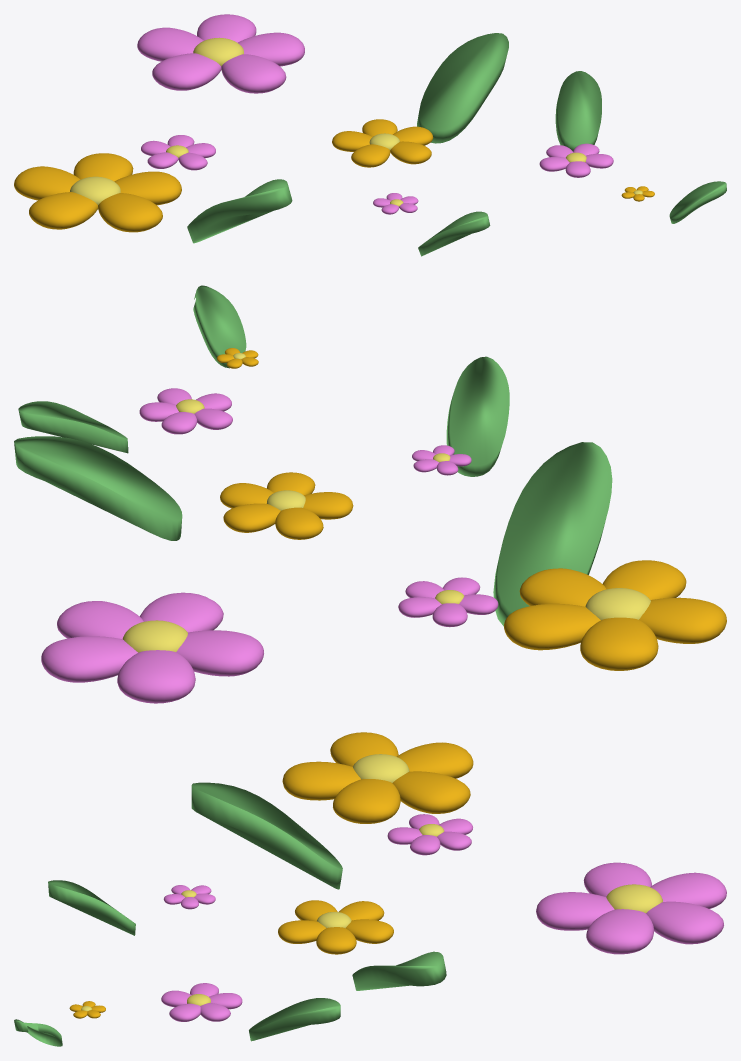
File: FLOWERS 1.fbx
The picture shows the model from 3 angles, top to bottom: view 1: azimuth 30°, elevation 25°; view 2: azimuth 150°, elevation 25°; view 3: azimuth 270°, elevation 25°; orthographic projection. The views are drawn at different scales.
Parts seen in each view (by area): view 1: Struikk.001; view 2: Struikk.001; view 3: Struikk.001.
Boxes of the visible parts, x1=… form: Struikk.001: x1=14, y1=14, x2=726, y2=256; Struikk.001: x1=14, y1=285, x2=726, y2=703; Struikk.001: x1=14, y1=732, x2=726, y2=1046.
Bounding box in the file's own units: 87.74 × 14.57 × 87.72.
